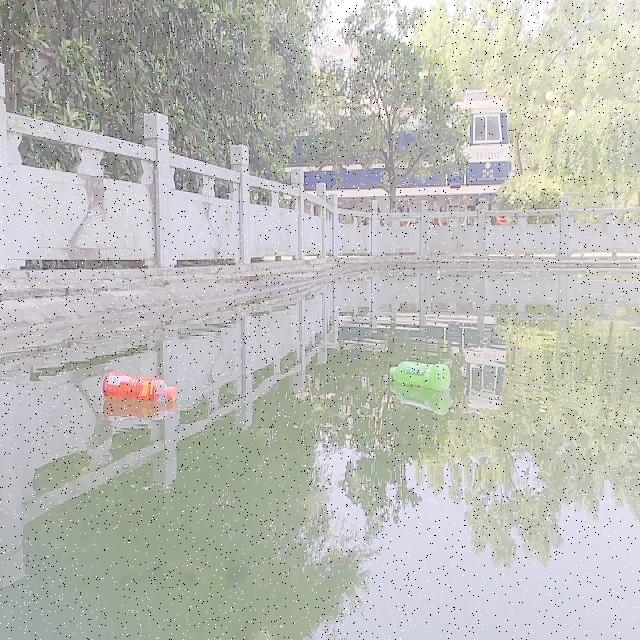Bottle: (101, 370, 179, 402), (386, 359, 451, 389)
